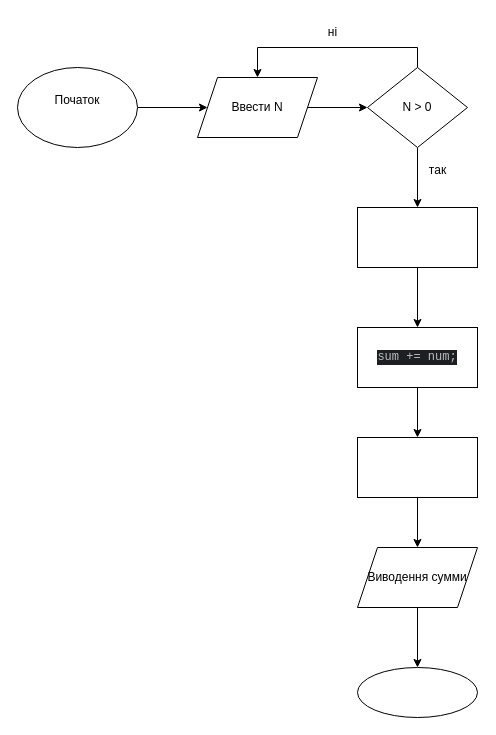
Image size: 496x735. Some labels were removed from this diagram. The box of each missing label's shape, as (x1, y1, x2, y2) in pixels:
int num = N % 10 ;: (356, 206, 478, 268)
N /= 10 ;: (356, 436, 478, 498)
кінець: (356, 666, 478, 718)
